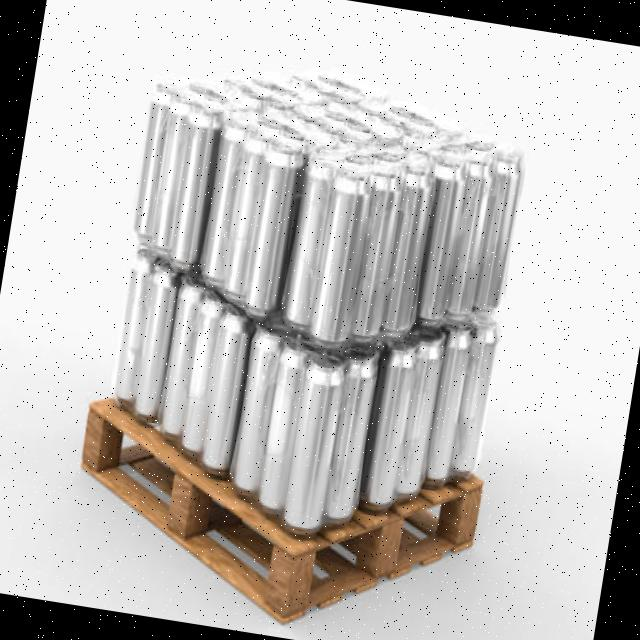Wooden-Pallets: (72, 398, 489, 626)
